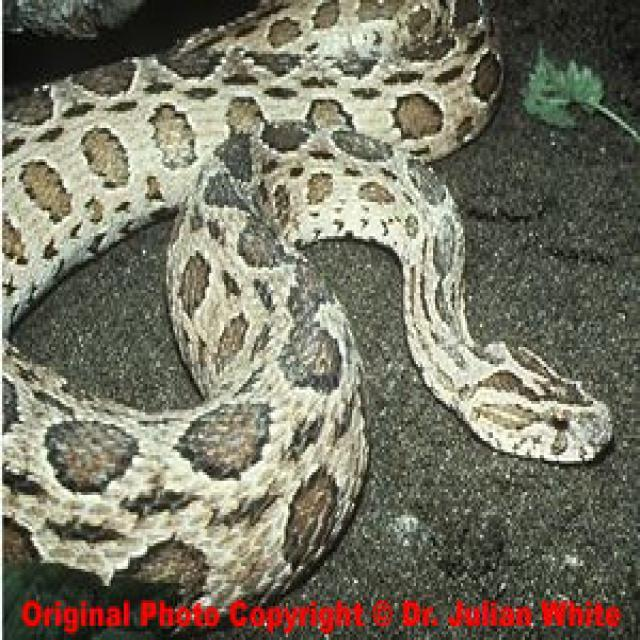Snake: (2, 0, 615, 629)
